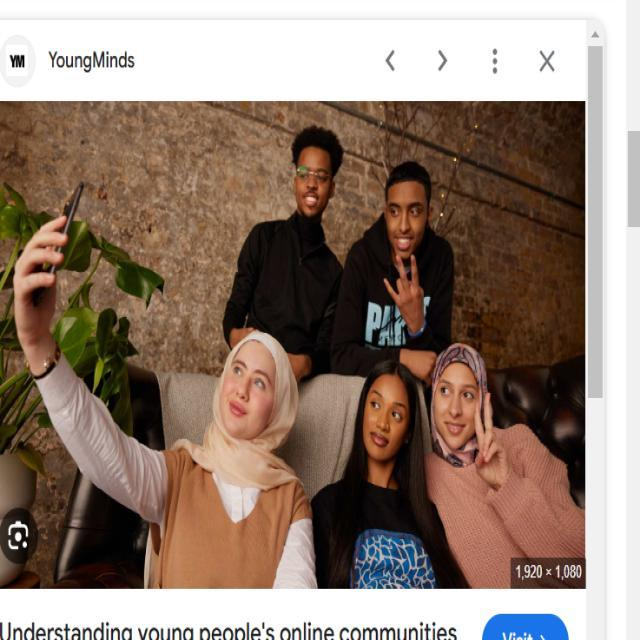face_no_mask: (216, 335, 270, 442), (385, 177, 436, 262), (361, 369, 407, 459), (434, 358, 479, 444), (291, 136, 338, 216)
